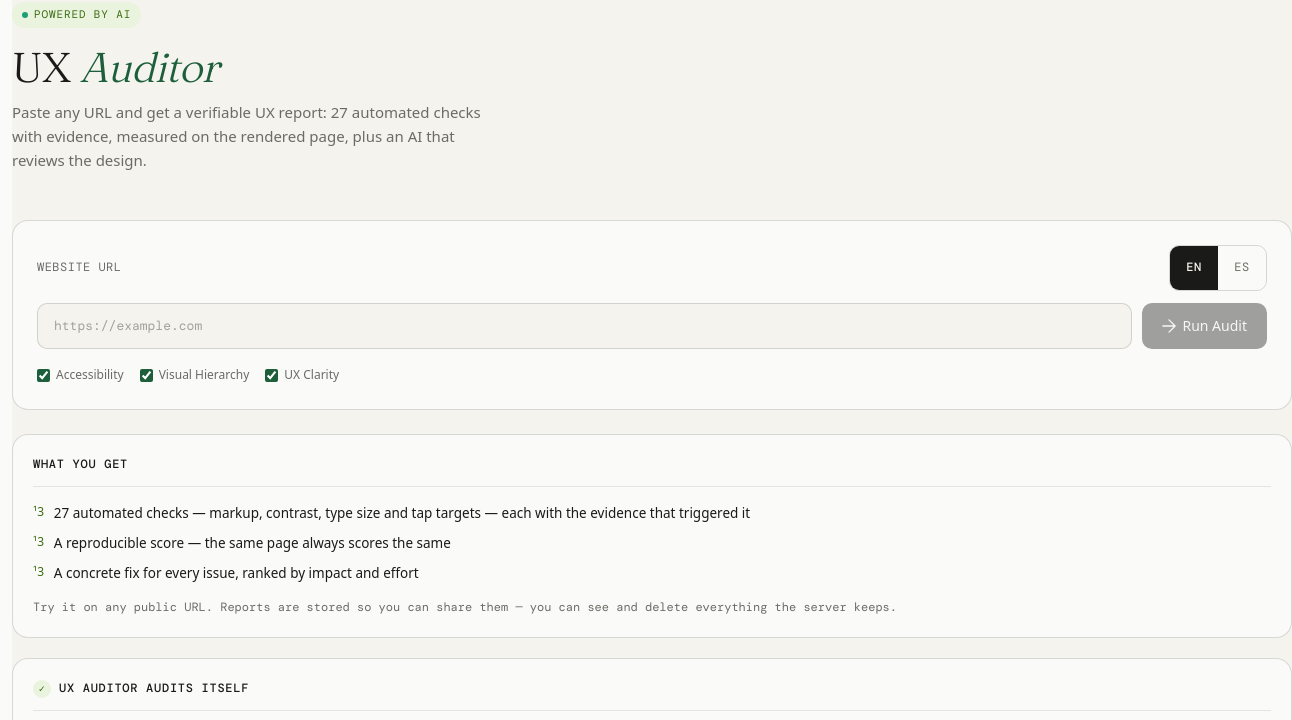
Test: idioma › cambia toda la interfaz y lo recuerda
Click the button with aria-label "español". click: point(1242, 268)
box: [1218,246,1266,290]
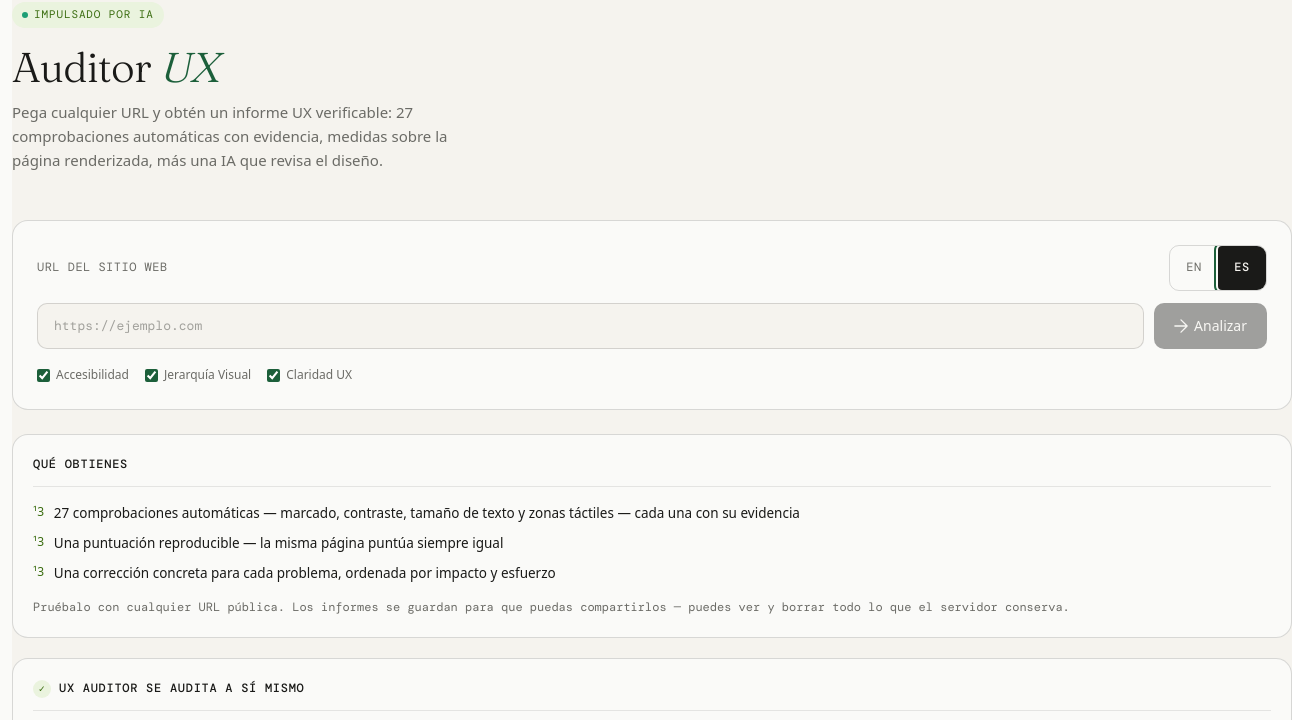
Result: the button "Analizar" is shown at [1154,303,1267,349]
